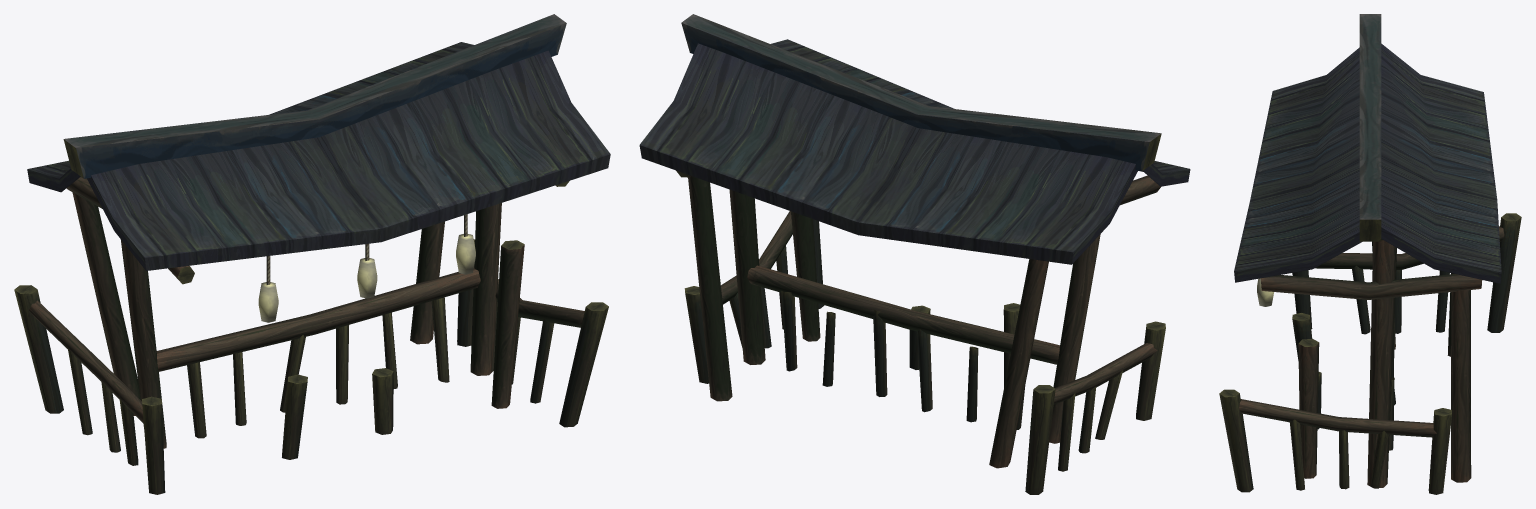
The model's file is pomajiu2.FBX.
The picture shows the model from 3 angles, left to right: view 1: azimuth 30°, elevation 25°; view 2: azimuth 150°, elevation 25°; view 3: azimuth 270°, elevation 25°; orthographic projection. The views are drawn at different scales.
Parts seen in each view (by area): view 1: pomajiu2; view 2: pomajiu2; view 3: pomajiu2.
Part boxes in pixels (x1=…): pomajiu2: x1=14, y1=14, x2=610, y2=494; pomajiu2: x1=639, y1=14, x2=1190, y2=494; pomajiu2: x1=1219, y1=14, x2=1521, y2=494.
Bounding box in the file's own units: 733 × 445 × 483.
